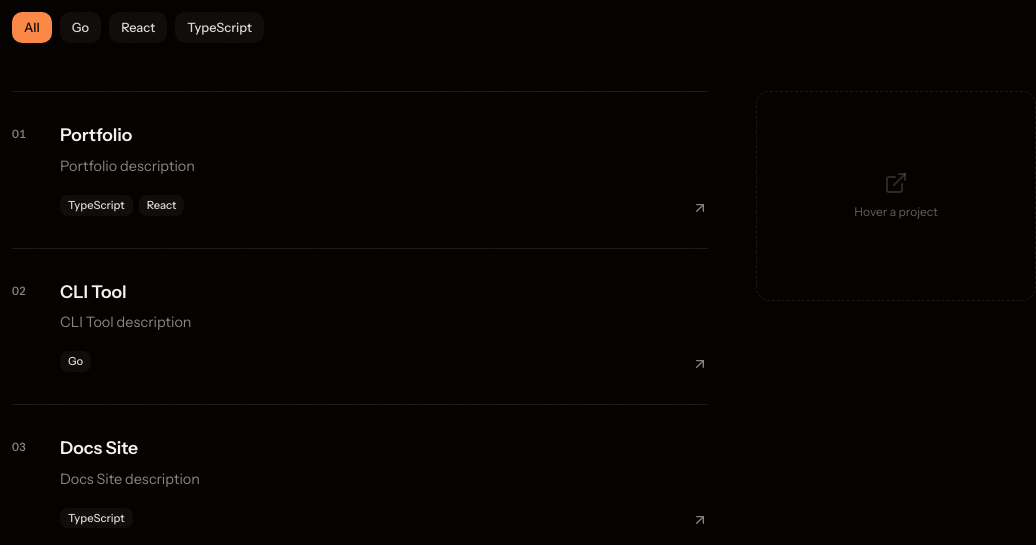
Test: ProjectGrid › restores all projects when the "All" button is pressed after filtering
The image size is (1036, 545).
Click the button "Go" at {"x": 80, "y": 28}, box x1=60 y1=12 x2=101 y2=43
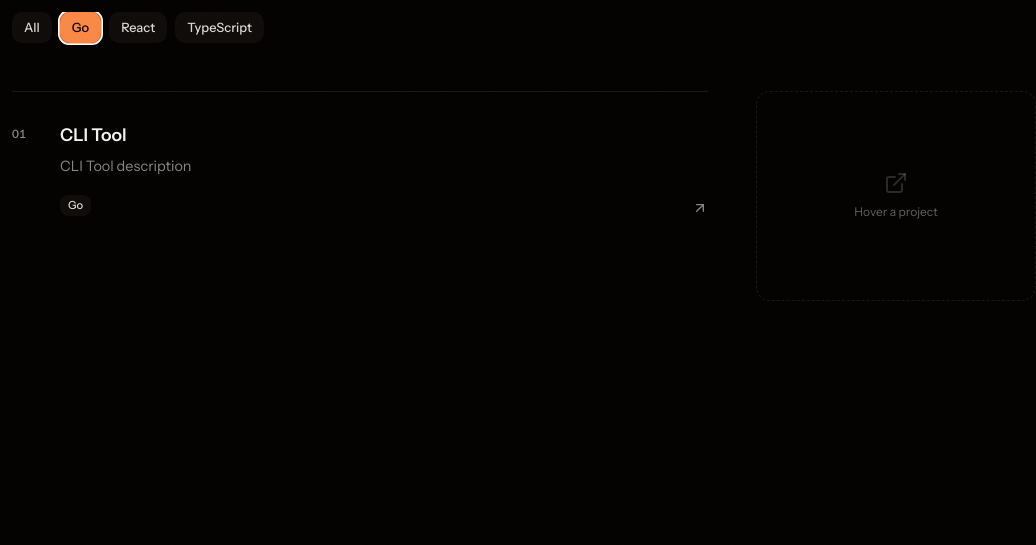
Click the button "All" at {"x": 32, "y": 28}, box x1=12 y1=12 x2=52 y2=43
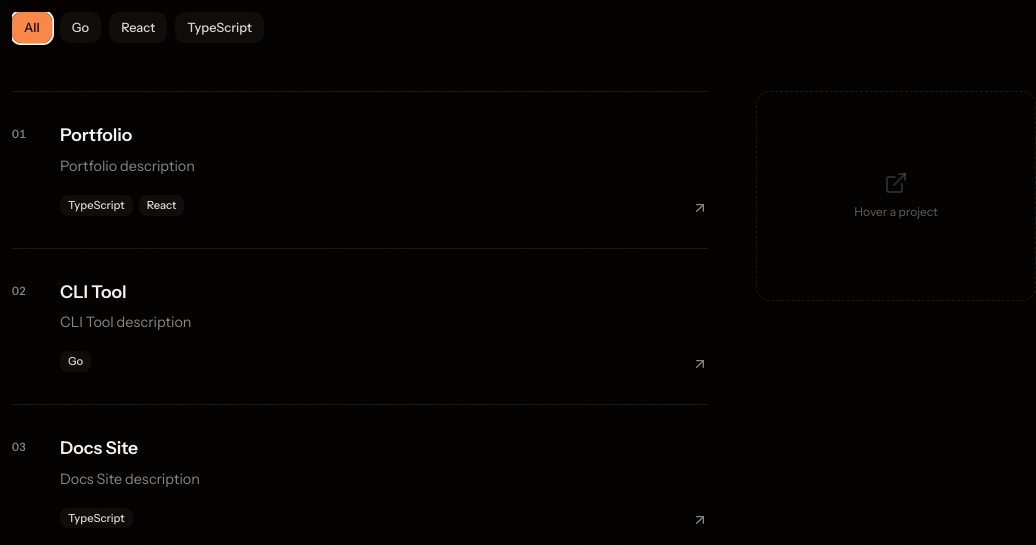
Expected: the link "CLI Tool" is shown, x1=60 y1=281 x2=127 y2=302
Result: the link "Portfolio" is shown at x1=60 y1=124 x2=132 y2=145
Result: the link "Docs Site" is shown at x1=60 y1=437 x2=138 y2=458
